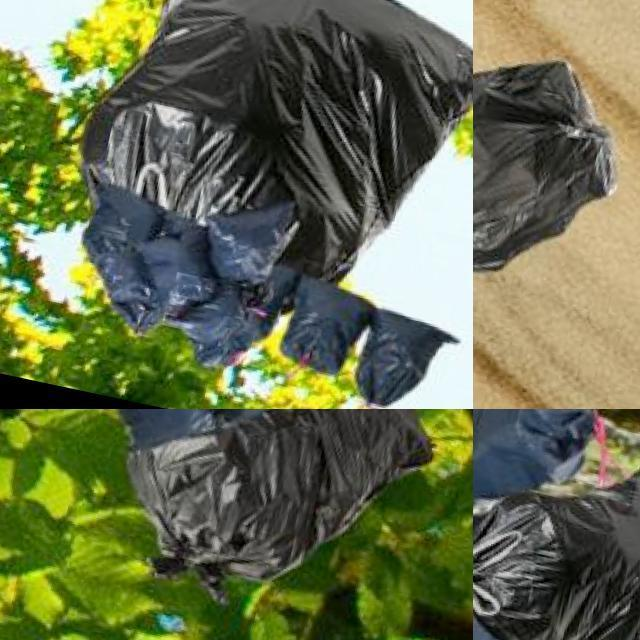waste: (79, 0, 473, 302), (104, 409, 443, 620), (473, 31, 636, 301), (473, 429, 640, 640), (68, 184, 194, 336), (473, 409, 618, 527), (203, 190, 303, 290), (279, 277, 377, 378), (358, 310, 454, 409), (182, 279, 275, 370), (108, 409, 224, 437)
